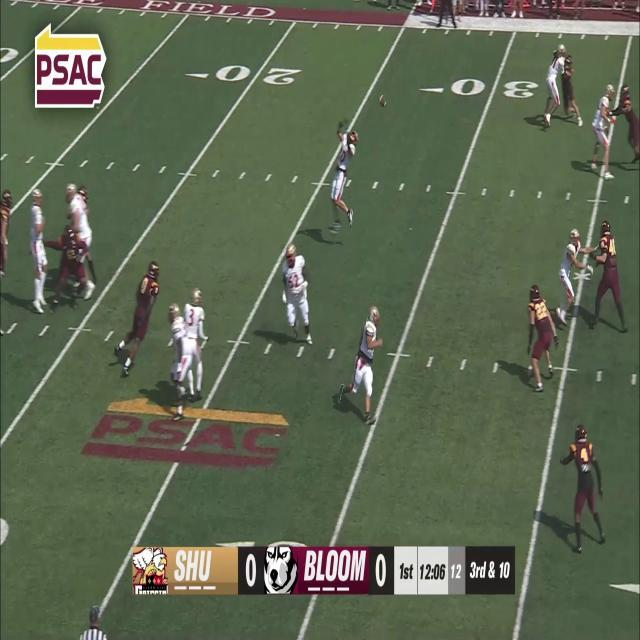football: (378, 94, 386, 107)
